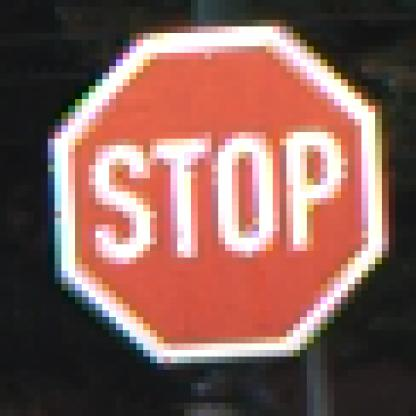stop: (38, 14, 397, 372)
